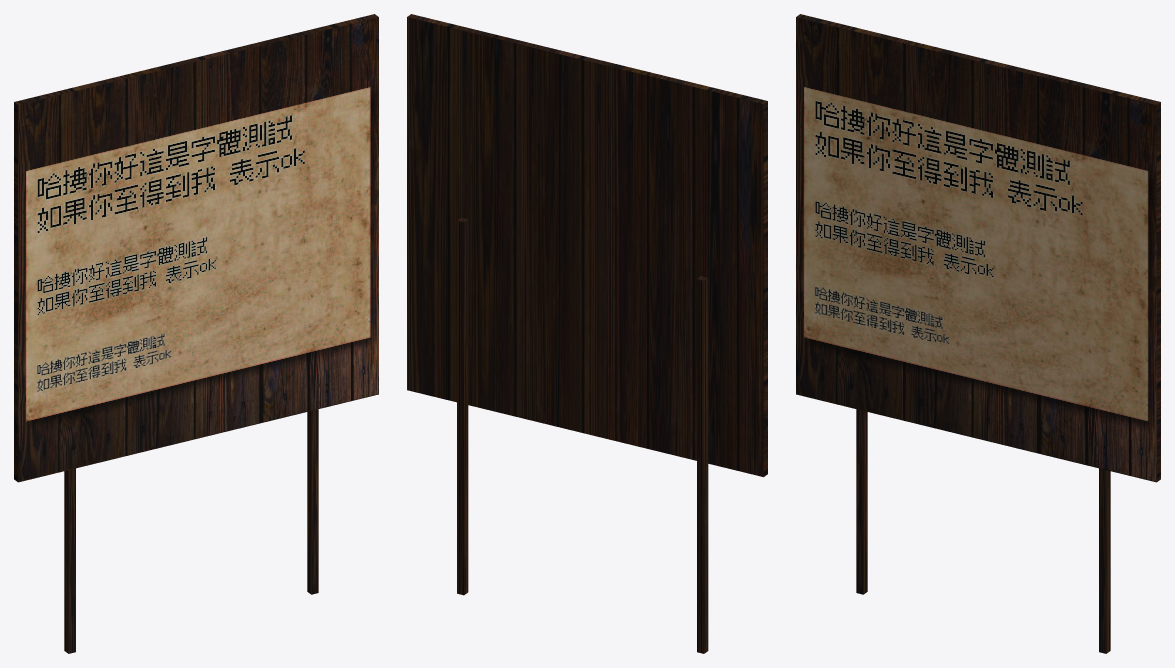
Rendered from 測試告示牌.fbx.
3 renders of one model, left to right at view 1: azimuth 30°, elevation 25°; view 2: azimuth 150°, elevation 25°; view 3: azimuth 330°, elevation 25°, orthographic.
Parts seen in each view (by area): view 1: Box001; view 2: Box001; view 3: Box001.
Part boxes in pixels (left/top/right/bottom): Box001: left=14, top=14, right=378, bottom=653; Box001: left=407, top=14, right=767, bottom=653; Box001: left=796, top=14, right=1160, bottom=653.
Size of the model in its own units: 39.37 by 59.05 by 1.72.
Materials: 1 (1 with a texture image).
